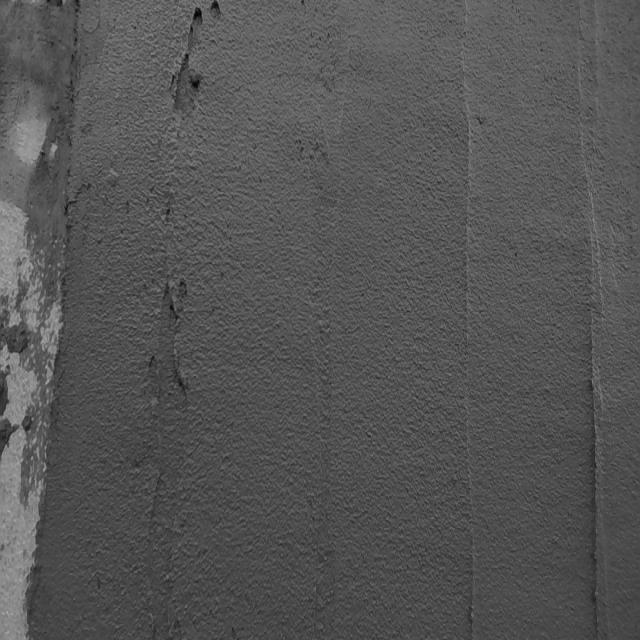trowels marks: (459, 12, 479, 640), (584, 291, 618, 640)
